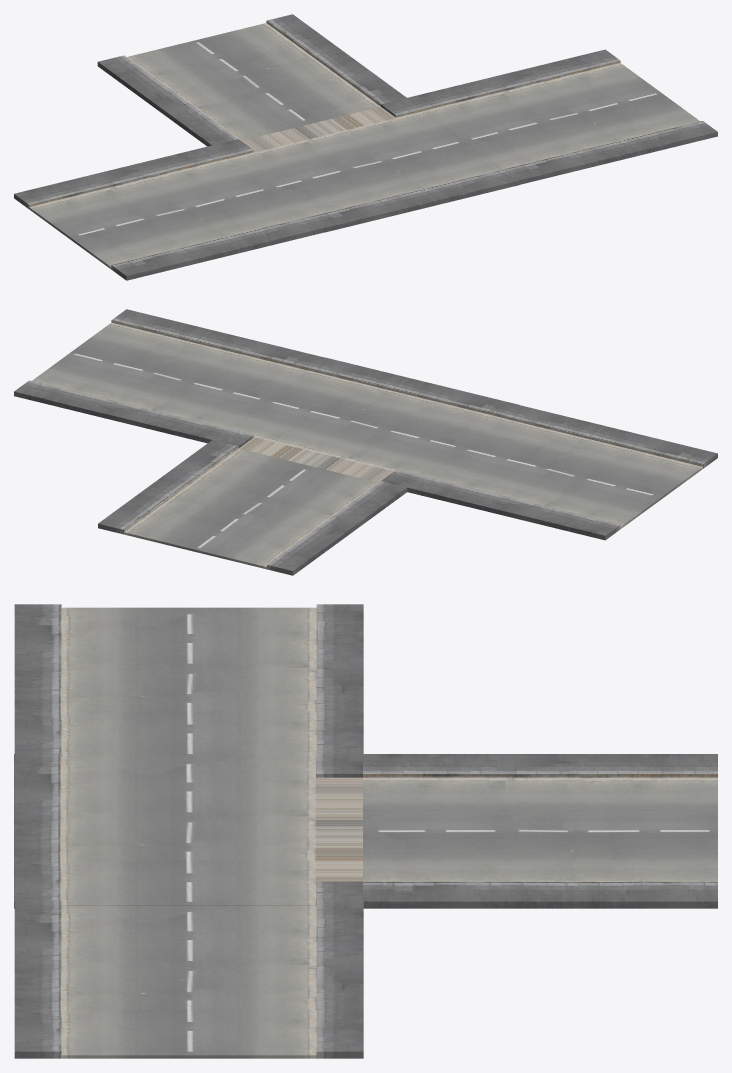
The model's file is t intersection road.fbx.
The picture shows the model from 3 angles, top to bottom: view 1: azimuth 30°, elevation 25°; view 2: azimuth 150°, elevation 25°; view 3: azimuth 270°, elevation 25°; orthographic projection. The views are drawn at different scales.
Visible parts, largest first — view 1: pCube5; view 2: pCube5; view 3: pCube5.
Part boxes in pixels (<box>): pCube5: <box>14,14,717,280</box>; pCube5: <box>14,309,717,575</box>; pCube5: <box>14,604,717,1058</box>.
Bounding box in the file's own units: 26.99 × 0.2 × 17.95.
